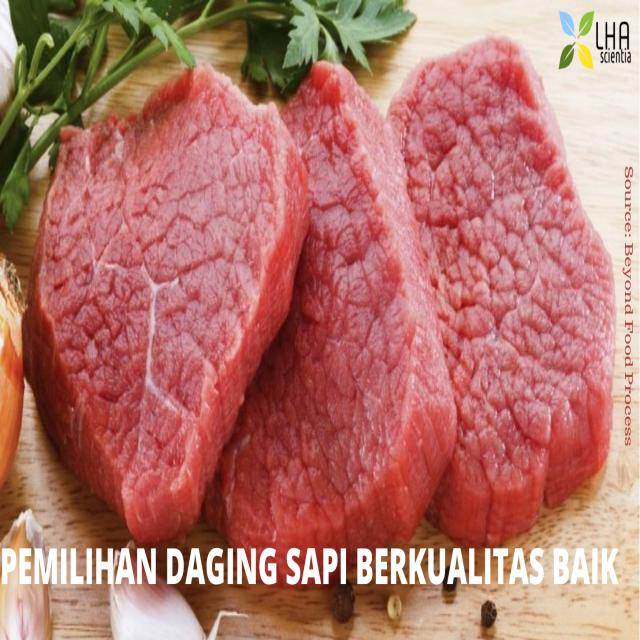beef: (177, 46, 466, 622), (350, 40, 623, 549), (32, 80, 316, 519)
